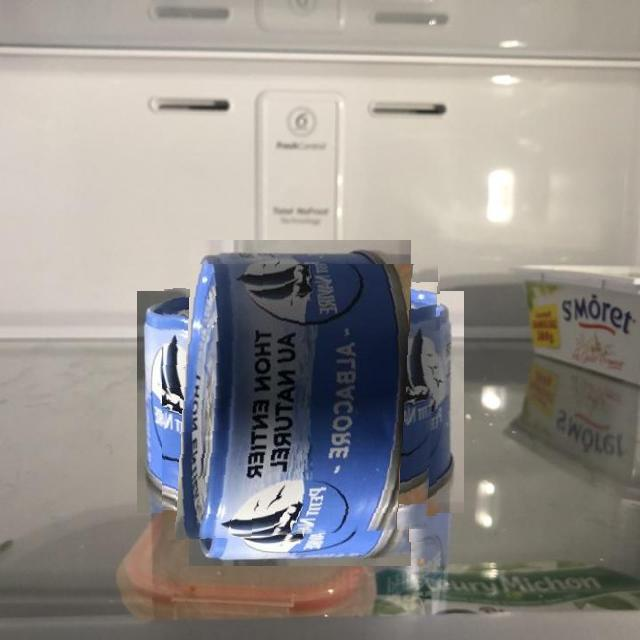recyclable: (162, 264, 439, 541)
